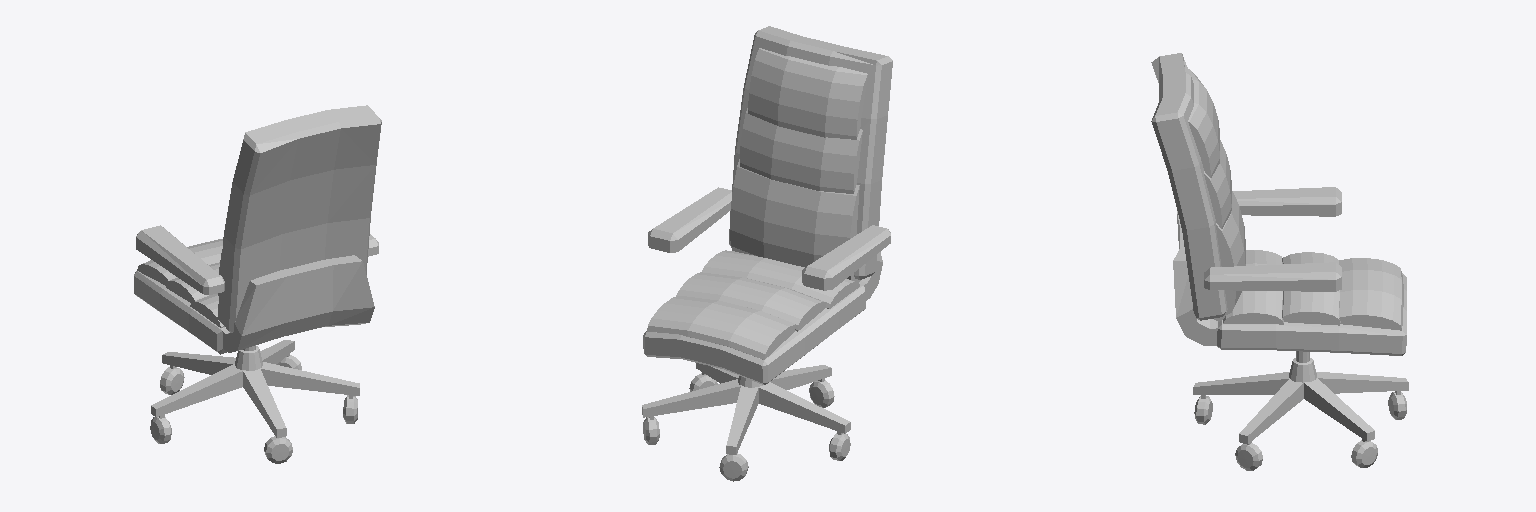
The model's file is SM_SillaB.obj.
3 renders of one model, left to right at view 1: azimuth 30°, elevation 25°; view 2: azimuth 150°, elevation 25°; view 3: azimuth 270°, elevation 25°, orthographic.
Visible parts, largest first — view 1: SillaB; view 2: SillaB; view 3: SillaB.
Boxes of the visible parts, x1=… form: SillaB: x1=134, y1=105, x2=381, y2=463; SillaB: x1=642, y1=26, x2=892, y2=481; SillaB: x1=1151, y1=53, x2=1408, y2=470.
Bounding box in the file's own units: 5.84 × 10.58 × 7.06.